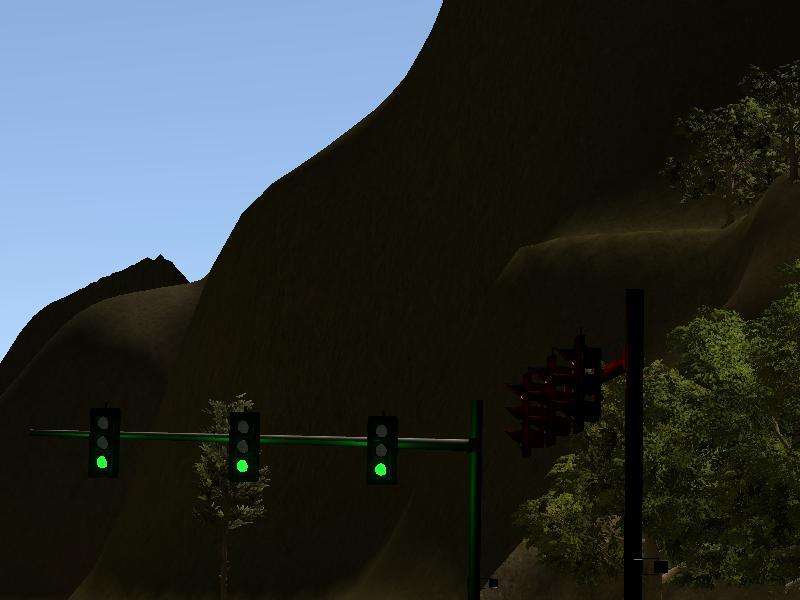Green: (228, 410, 258, 480), (89, 409, 119, 476), (367, 418, 396, 483)
